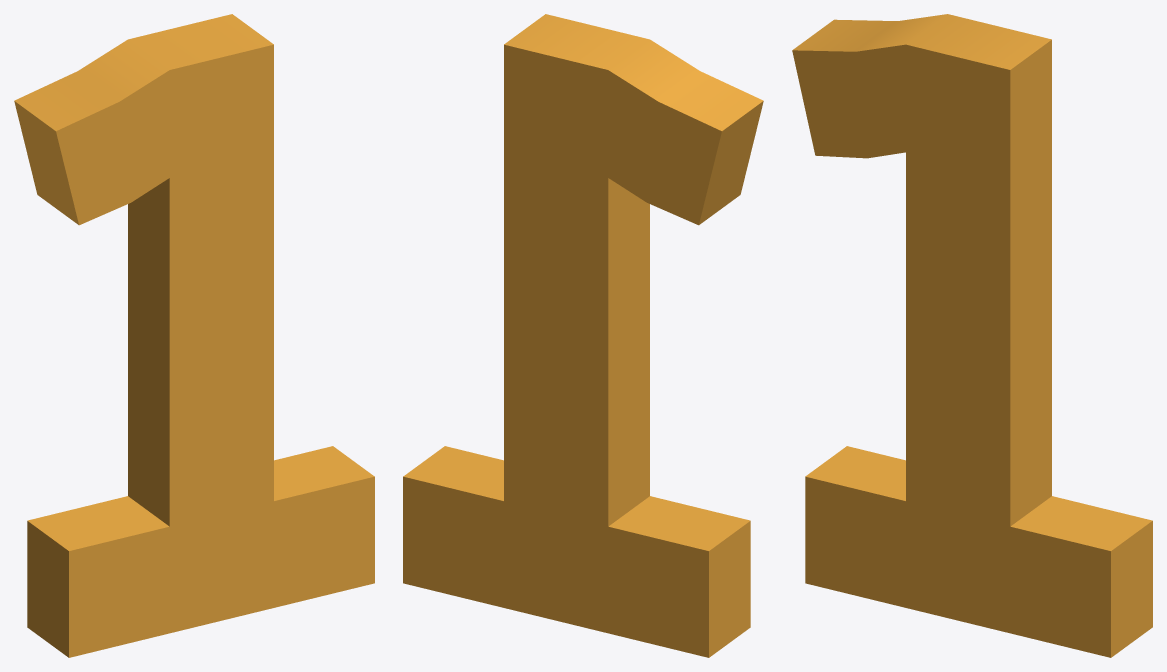
The picture shows the model from 3 angles, left to right: view 1: azimuth 30°, elevation 25°; view 2: azimuth 150°, elevation 25°; view 3: azimuth 330°, elevation 25°; orthographic projection.
Parts seen in each view (by area): view 1: So_1; view 2: So_1; view 3: So_1.
Boxes of the visible parts, x1,y1,x2,y2 form: So_1: (14,14,374,657); So_1: (403,14,763,657); So_1: (792,14,1152,657).
Bounding box in the file's own units: 39.96 × 67.46 × 9.08.
